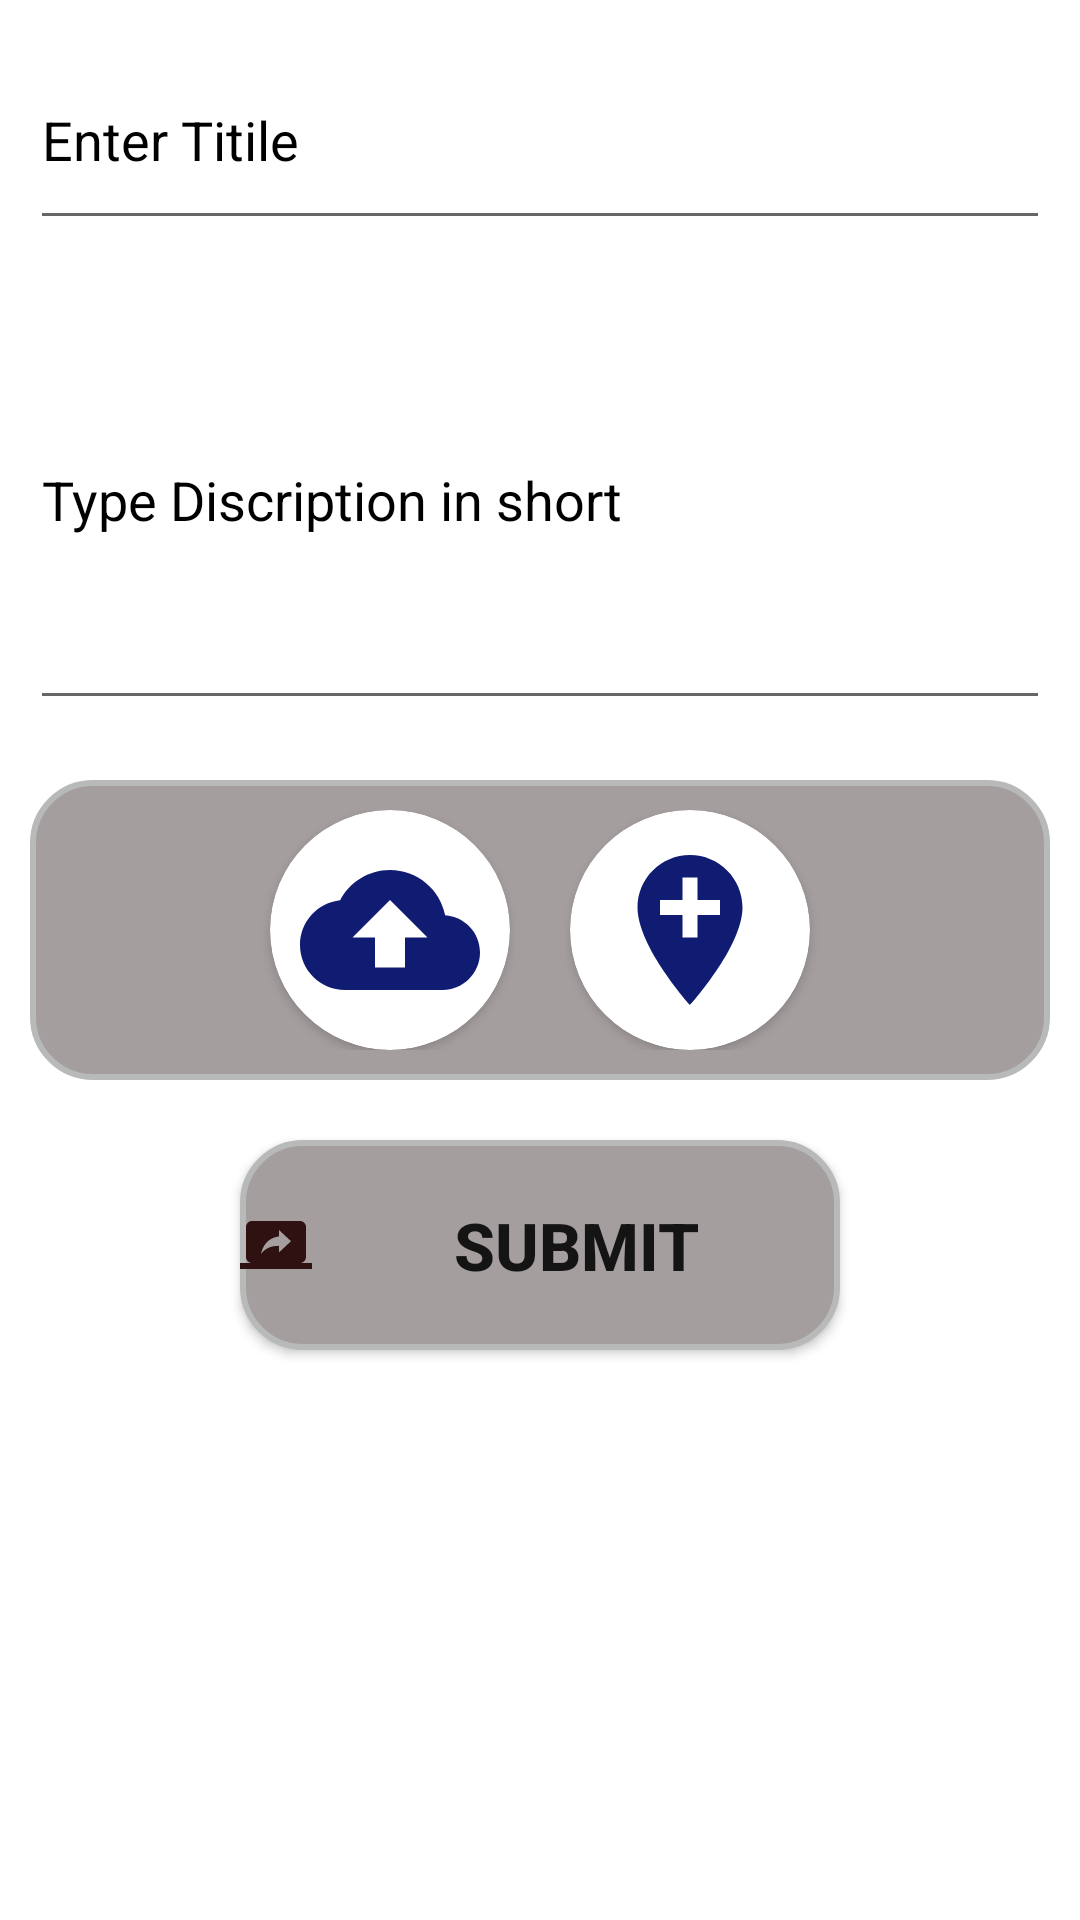

Screen size 1080 × 1920. Icon name, then its box in pixels as bbox=[x1, y1, x2, y2]:
add location: bbox=[637, 855, 743, 1005]
cloud upload: bbox=[300, 870, 480, 990]
